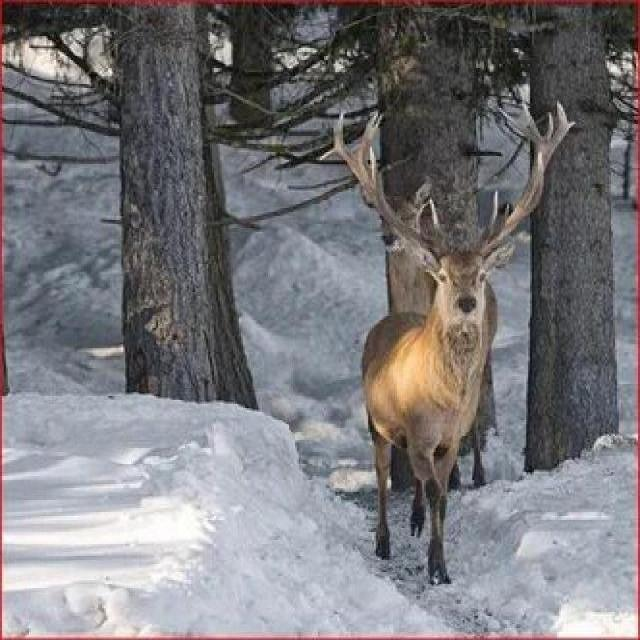deer: (217, 109, 600, 506)
